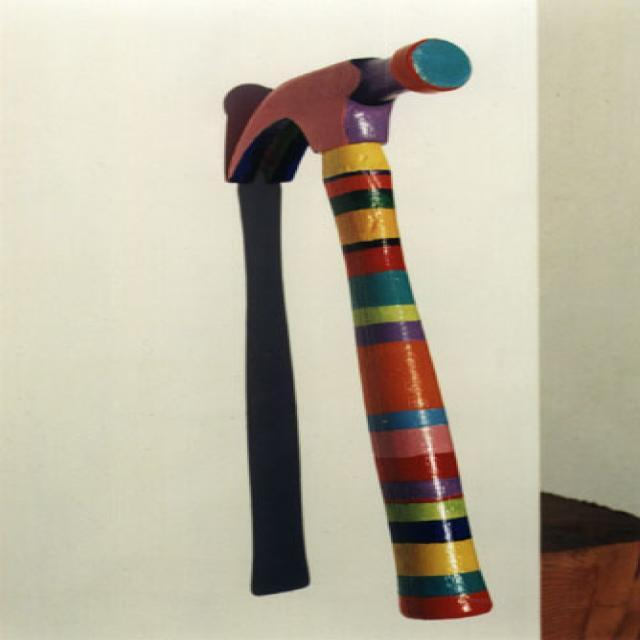hammer: (220, 32, 480, 594)
